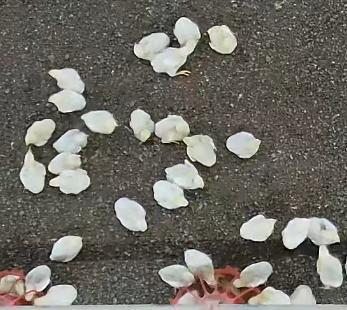chick: (150, 38, 200, 76), (18, 148, 46, 195), (316, 243, 343, 290), (165, 160, 204, 192), (183, 249, 216, 286), (114, 197, 148, 231), (23, 266, 53, 303), (231, 261, 272, 288), (49, 170, 93, 195), (154, 113, 190, 143), (183, 135, 217, 166), (34, 284, 79, 307), (152, 181, 188, 208), (239, 214, 275, 241), (134, 32, 169, 59), (157, 264, 196, 288), (48, 68, 85, 93), (54, 126, 87, 154), (46, 90, 86, 113), (247, 286, 290, 307), (309, 216, 339, 246), (227, 132, 261, 158), (81, 110, 116, 135), (26, 118, 56, 147), (50, 235, 82, 262), (130, 108, 155, 142), (209, 25, 238, 54), (281, 217, 308, 247), (49, 151, 81, 175), (174, 18, 200, 45), (290, 285, 317, 304)
rice: (170, 266, 265, 310), (0, 269, 48, 310)
